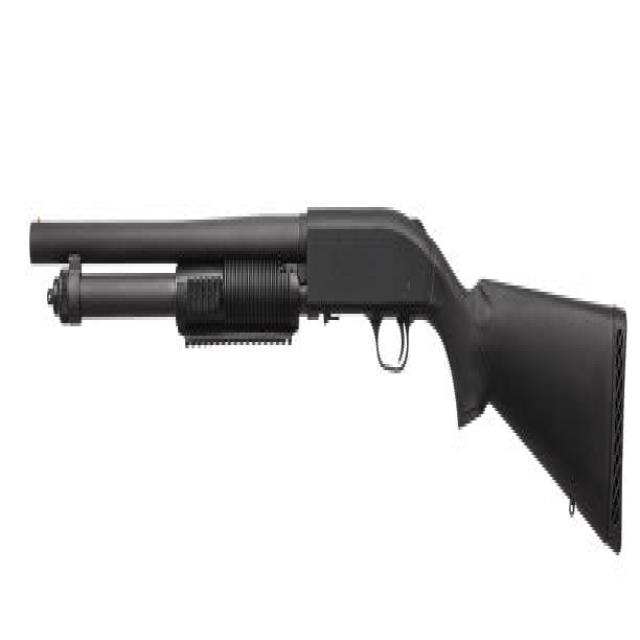rifle: (25, 186, 633, 596)
